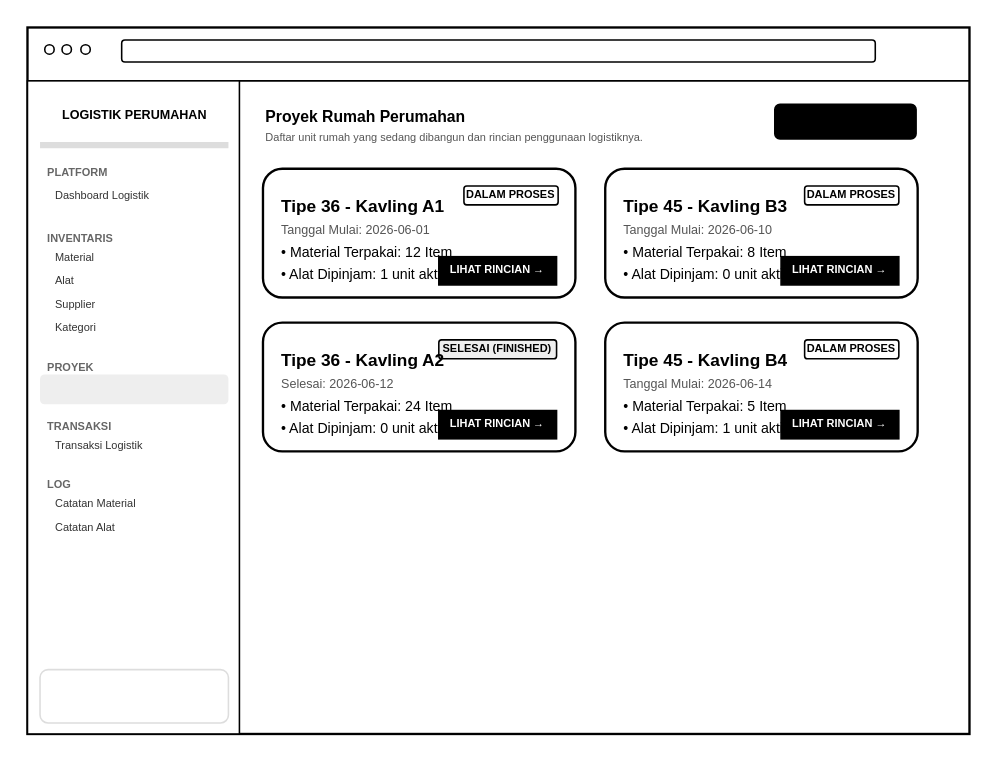
Some shapes in this 999 by 763 pixel diagram are drawn without their labels. Each missing label, with the box of its shape:
http://localhost/logistik/houses: (120, 38, 875, 62)
Logistik User logistik@example.com: (38, 668, 228, 723)
Rumah: (39, 374, 228, 403)
Tambah Proyek +: (773, 103, 916, 139)
